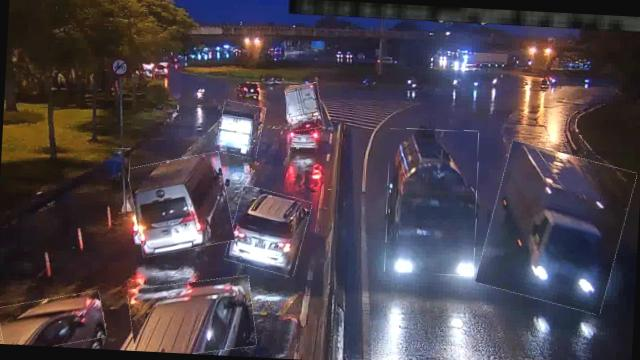Bike: (110, 147, 130, 184)
Bus: (127, 152, 234, 257)
Car: (126, 274, 257, 357), (226, 187, 308, 274), (0, 290, 106, 348)
Truck: (481, 144, 632, 310), (382, 127, 480, 277), (216, 101, 264, 158), (284, 82, 324, 132)
